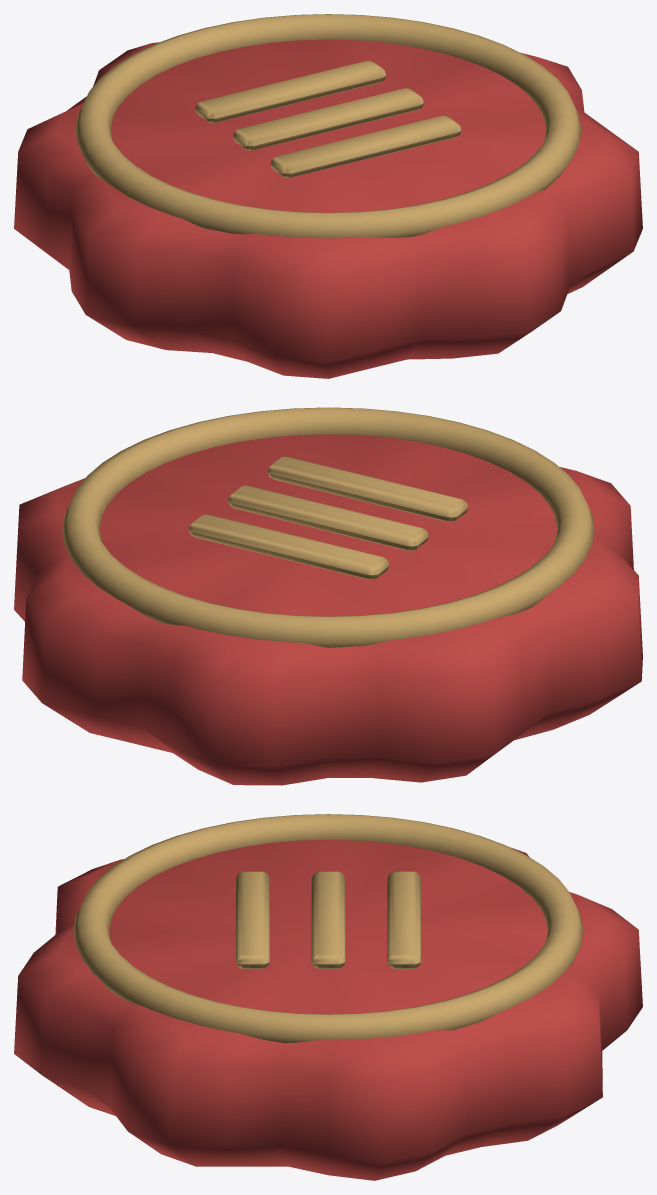
Rendered from encore_seal.glb.
3 views of the same model, one above another, from view 1: azimuth 30°, elevation 25°; view 2: azimuth 150°, elevation 25°; view 3: azimuth 270°, elevation 25° (orthographic). The views are drawn at different scales.
Visible parts, largest first — view 1: Fluted vermilion seal, Raised gold stamp rim, Seal incised lucky bars.001, Seal incised lucky bars.002, Seal incised lucky bars; view 2: Fluted vermilion seal, Raised gold stamp rim, Seal incised lucky bars, Seal incised lucky bars.001, Seal incised lucky bars.002; view 3: Fluted vermilion seal, Raised gold stamp rim, Seal incised lucky bars.001, Seal incised lucky bars, Seal incised lucky bars.002.
Part boxes in pixels (left/top/right/bottom): Fluted vermilion seal: left=14, top=39, right=642, bottom=378; Raised gold stamp rim: left=75, top=14, right=581, bottom=238; Seal incised lucky bars.001: left=233, top=88, right=423, bottom=150; Seal incised lucky bars.002: left=195, top=60, right=386, bottom=122; Seal incised lucky bars: left=270, top=115, right=461, bottom=177; Fluted vermilion seal: left=14, top=434, right=642, bottom=785; Raised gold stamp rim: left=62, top=407, right=594, bottom=647; Seal incised lucky bars: left=267, top=456, right=468, bottom=522; Seal incised lucky bars.001: left=228, top=485, right=428, bottom=550; Seal incised lucky bars.002: left=188, top=514, right=389, bottom=579; Fluted vermilion seal: left=14, top=839, right=642, bottom=1180; Raised gold stamp rim: left=73, top=814, right=583, bottom=1043; Seal incised lucky bars.001: left=311, top=871, right=345, bottom=968; Seal incised lucky bars: left=236, top=871, right=269, bottom=968; Seal incised lucky bars.002: left=387, top=871, right=420, bottom=968.
Size of the model in its own units: 0.3158 by 0.087 by 0.3158.
